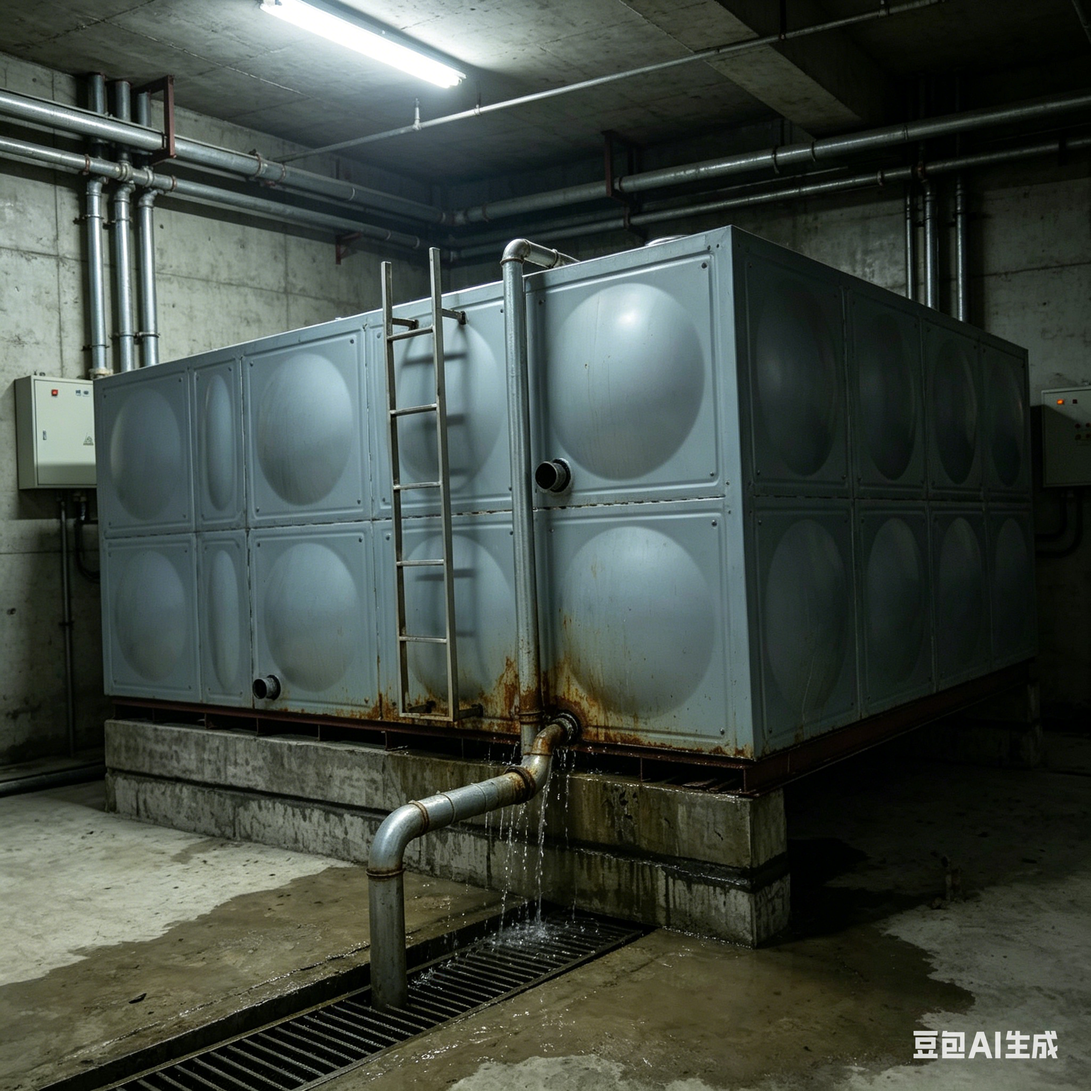Leakage: (614, 908, 959, 1085), (30, 979, 463, 1089), (626, 756, 947, 896), (471, 726, 598, 1065), (215, 908, 469, 985), (293, 852, 471, 911), (80, 937, 211, 985)
